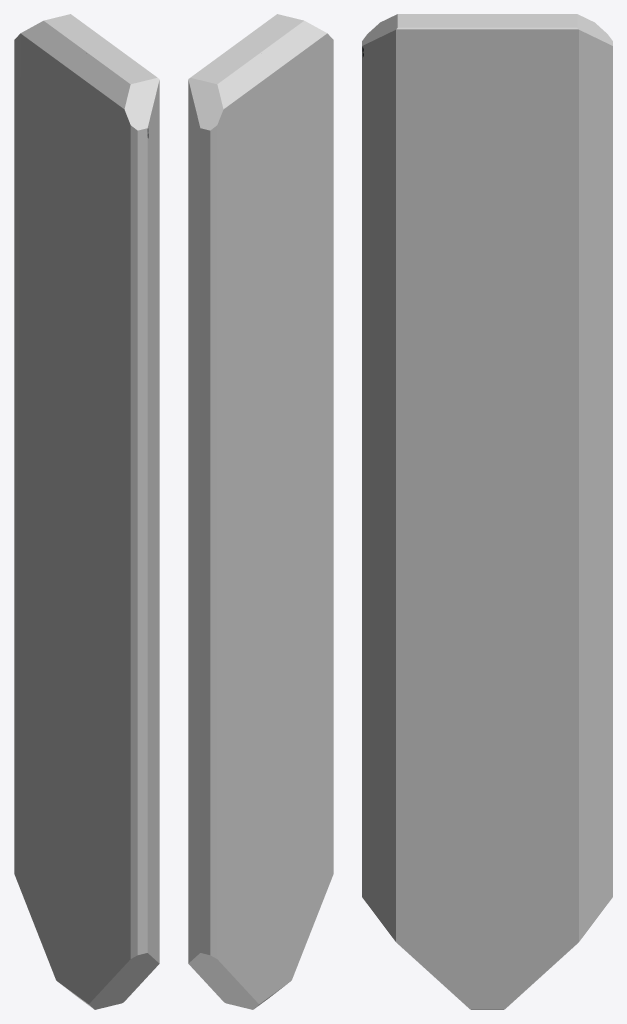
Rendered from SM_wire_pillar_01.fbx.
The picture shows the model from 3 angles, left to right: view 1: azimuth 30°, elevation 25°; view 2: azimuth 150°, elevation 25°; view 3: azimuth 270°, elevation 25°; orthographic projection. The views are drawn at different scales.
Parts seen in each view (by area): view 1: SM_wire_pillar_01_ConvexHulls; view 2: SM_wire_pillar_01_ConvexHulls; view 3: SM_wire_pillar_01_ConvexHulls.
Part boxes in pixels (x1=…): SM_wire_pillar_01_ConvexHulls: x1=14, y1=14, x2=159, y2=1009; SM_wire_pillar_01_ConvexHulls: x1=188, y1=14, x2=333, y2=1009; SM_wire_pillar_01_ConvexHulls: x1=362, y1=14, x2=612, y2=1009.
Size of the model in its own units: 70.81 by 347 by 1500.
